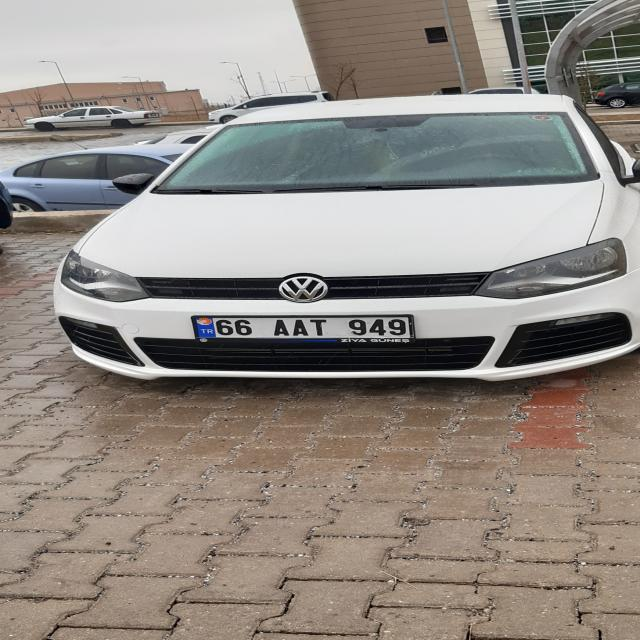plate: (193, 316, 412, 339)
